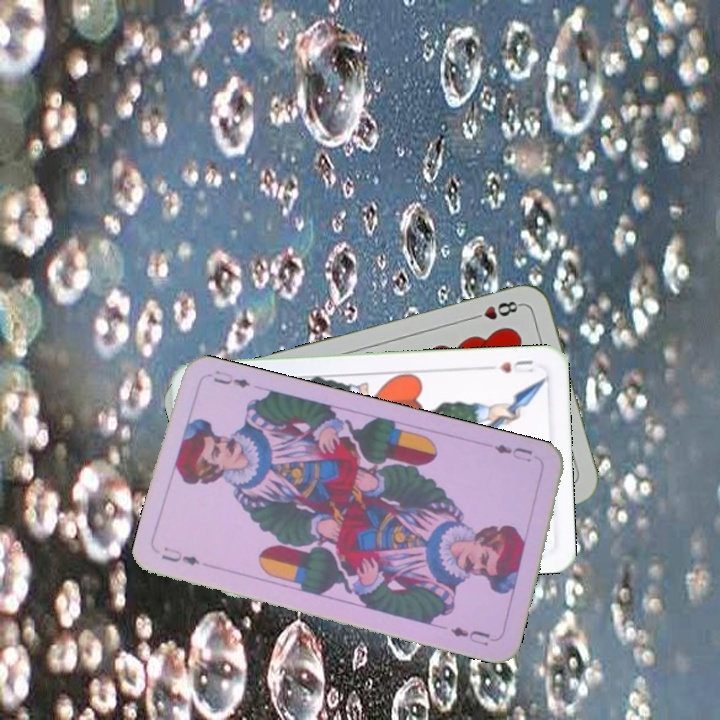EU: (490, 440, 535, 465), (158, 544, 202, 568)
H8: (466, 297, 525, 323)
HU: (495, 355, 537, 376)
